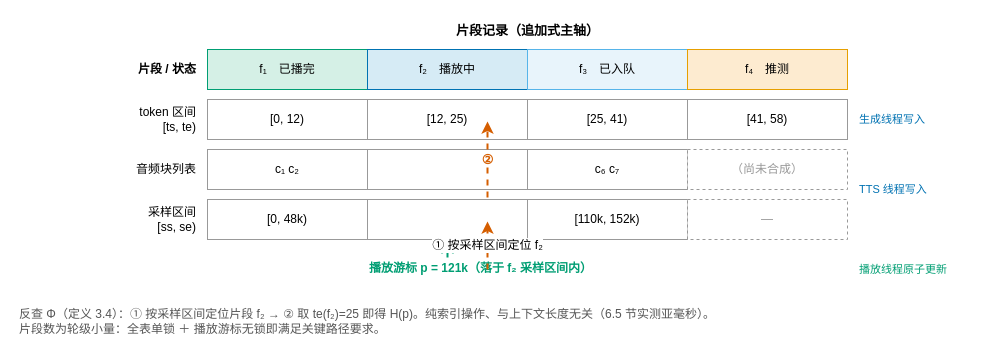
The diagram is 994 pixels wide and 360 high, and some of its shapes have lost their labels. The shapes that lost their labels are listed below. From the top down, each one's box as (x1, y1, x2, y2) in pixels, then its label:
(366, 148, 528, 190): c₃ c₄ c₅
(366, 198, 528, 240): [48k, 110k)
